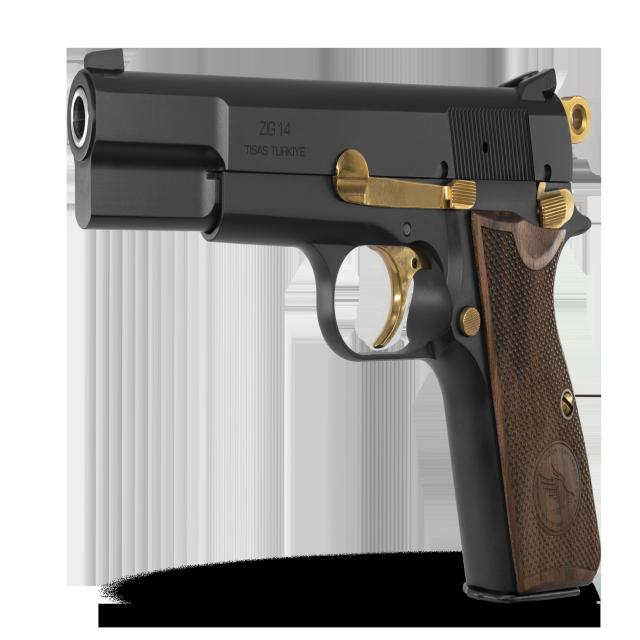pistol: (62, 32, 609, 609)
